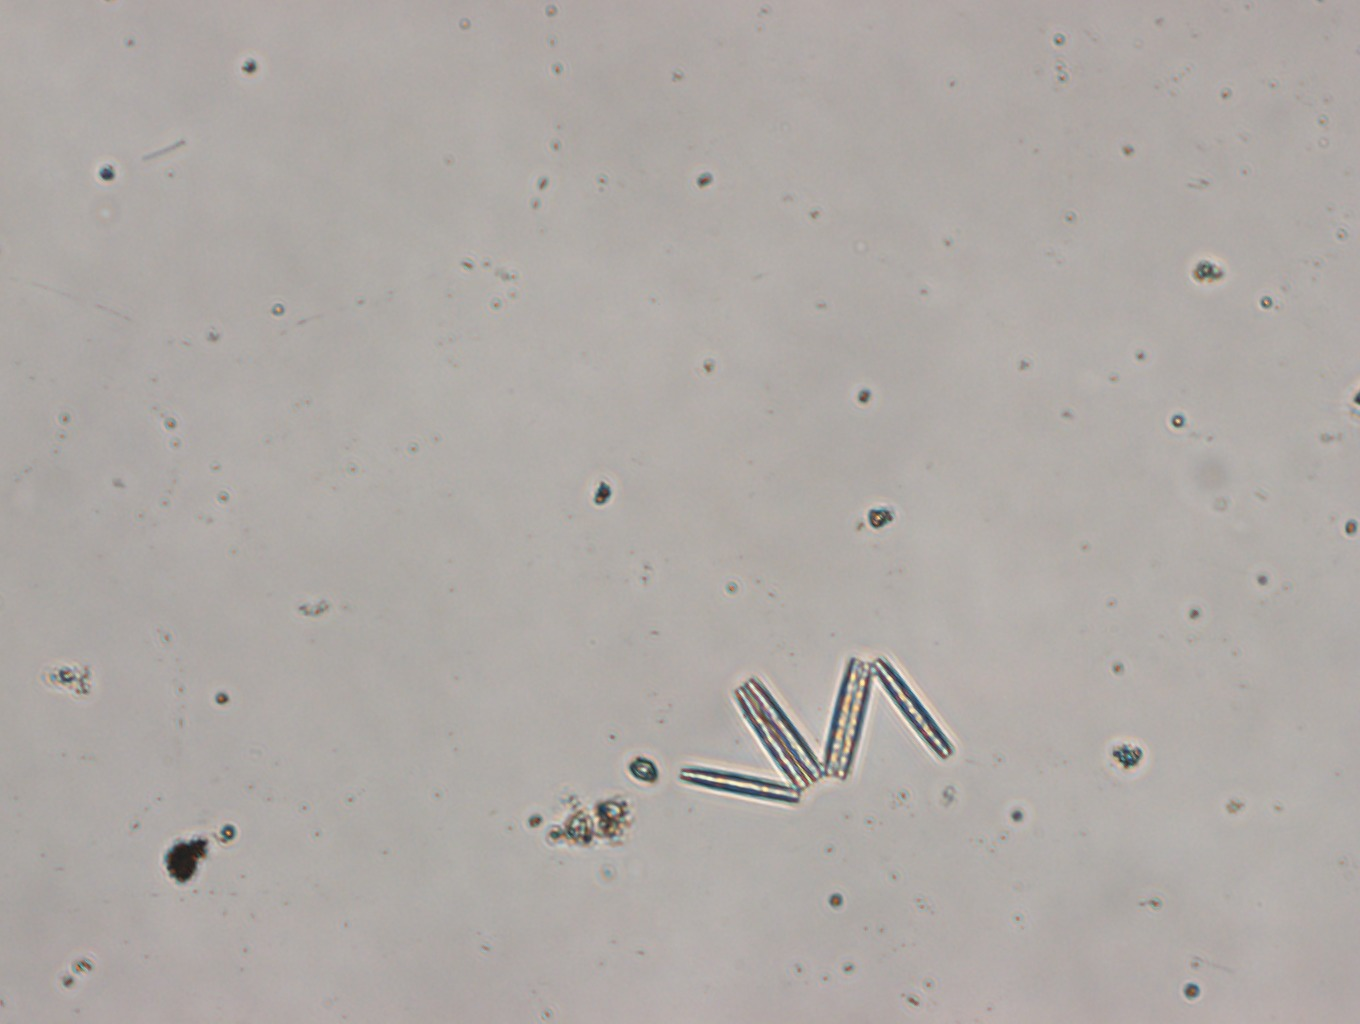thalassionema nitzschioides: (678, 653, 957, 807)
